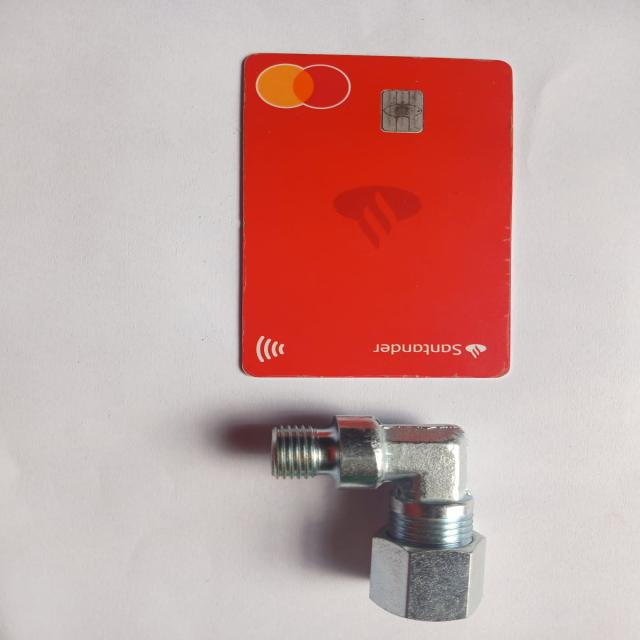cartao: (242, 54, 512, 378)
rosca_externa: (272, 413, 485, 622)
